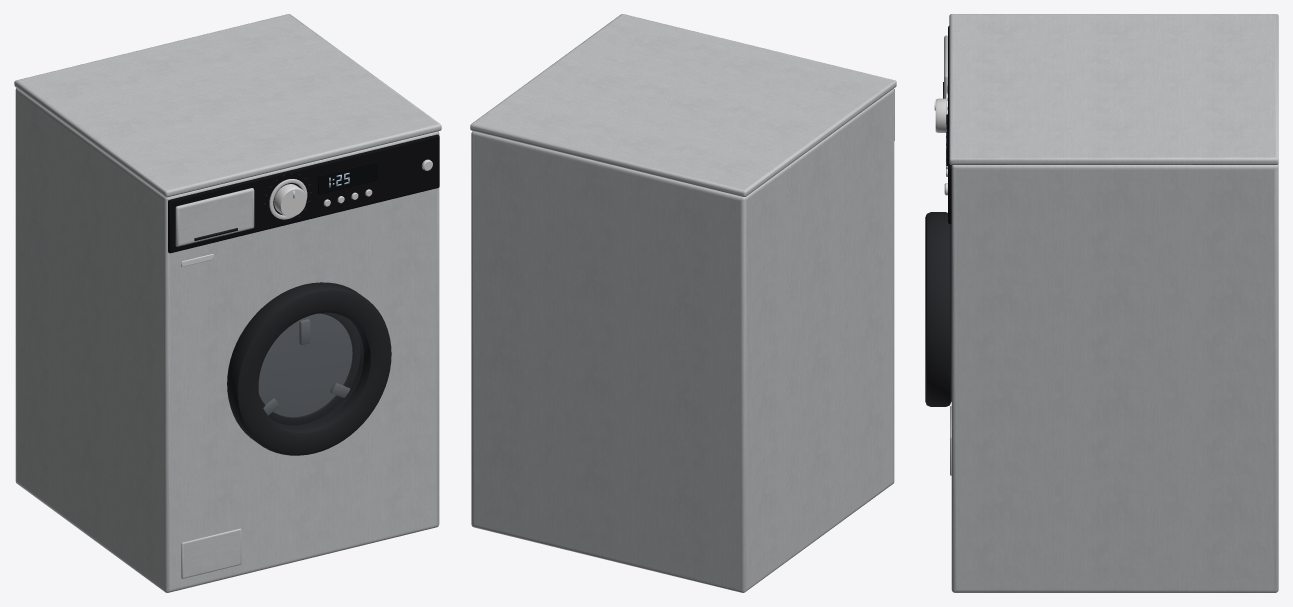
Rendered from lavasecadora_inox.glb.
3 views of the same model, side by side, from view 1: azimuth 30°, elevation 25°; view 2: azimuth 150°, elevation 25°; view 3: azimuth 270°, elevation 25° (orthographic). The views are drawn at different scales.
Parts seen in each view (by area): view 1: lavasecadora_inox; view 2: lavasecadora_inox; view 3: lavasecadora_inox.
Boxes of the visible parts, x1=… form: lavasecadora_inox: x1=14, y1=14, x2=441, y2=592; lavasecadora_inox: x1=470, y1=14, x2=896, y2=592; lavasecadora_inox: x1=925, y1=14, x2=1278, y2=592.
Size of the model in its own units: 0.6 by 0.85 by 0.616.
9 materials, 1 textured.
